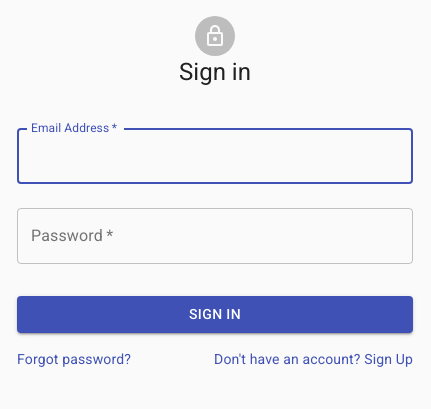
Test case: Signin › only password input indicates invalid password syntax error with valid email but invalid password input
Type "validEmail@gmail.com" into the field with test id "email-signin" at (215, 156), box [17,128,413,184]
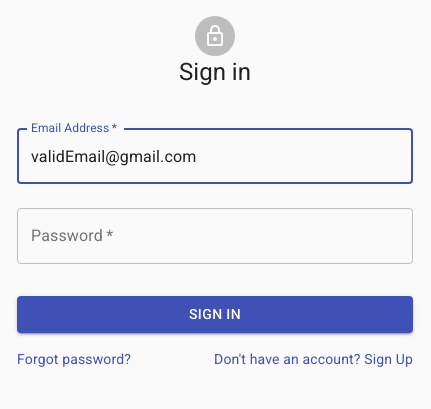
Type "zxcvbnm" into the password field with test id "password-signin" at (215, 236), box [17,208,413,264]
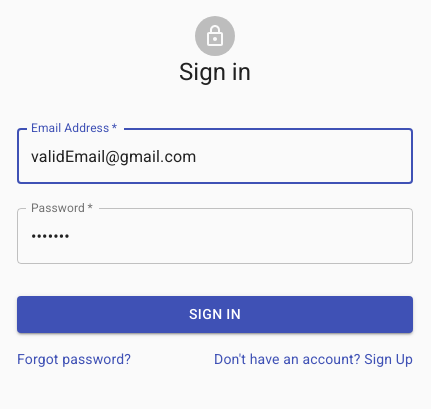
Click the button at (215, 314), box [17,296,413,332]
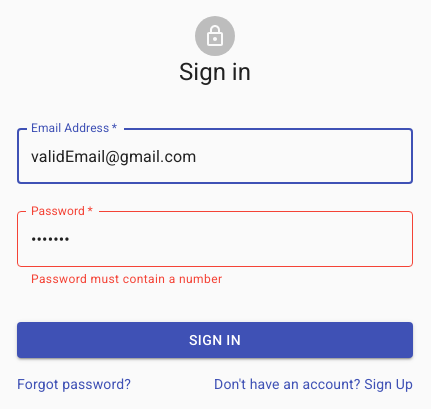
Expected: the text "Password must contain a number" is shown, [31,272,222,286]
